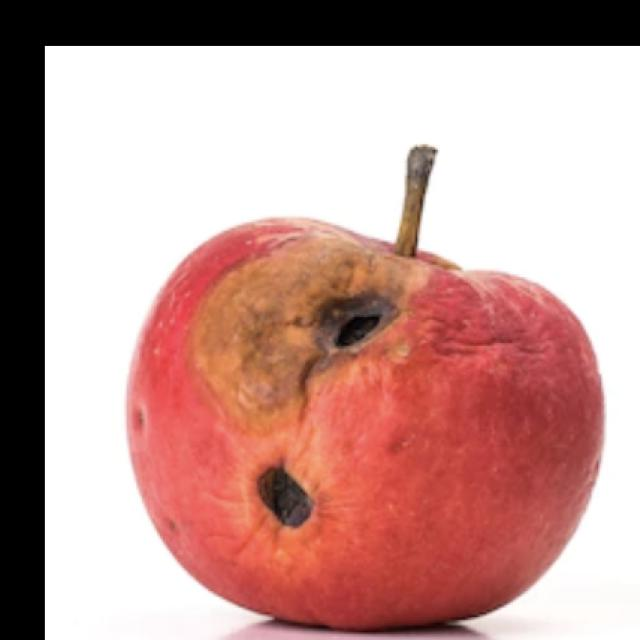Rotten: (118, 205, 611, 633)
